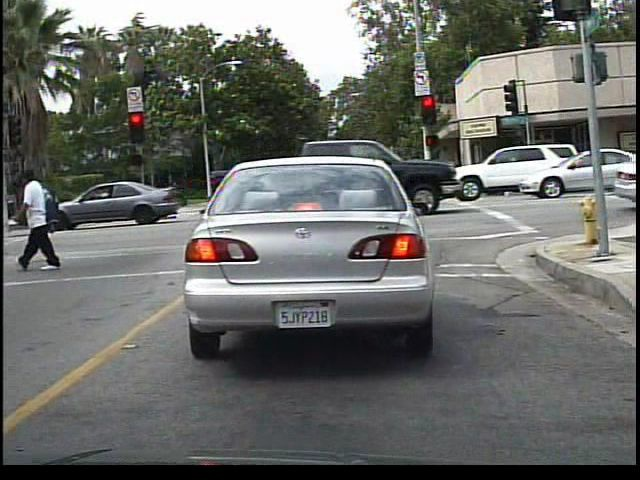person: (15, 164, 71, 272)
